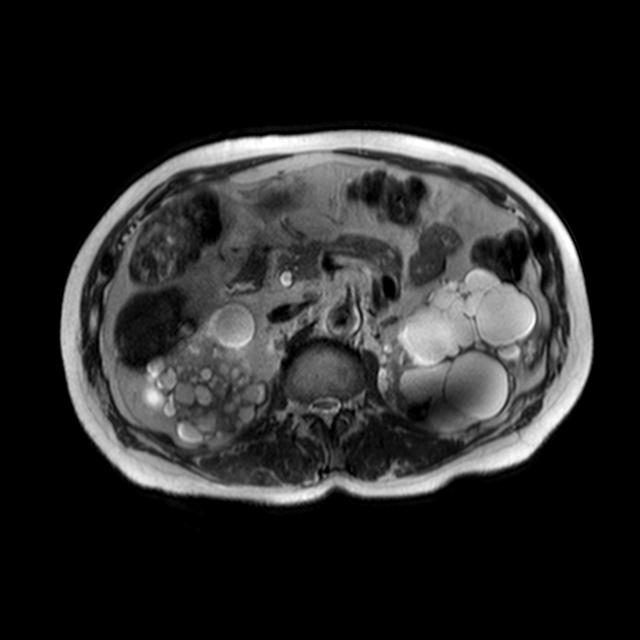sag: (139, 299, 268, 449)
sol: (377, 266, 546, 433)
